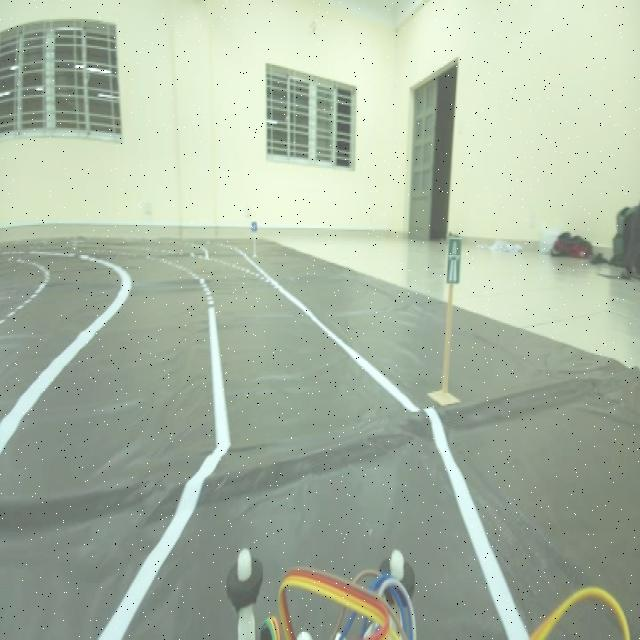highway_entry: (442, 226, 468, 290)
